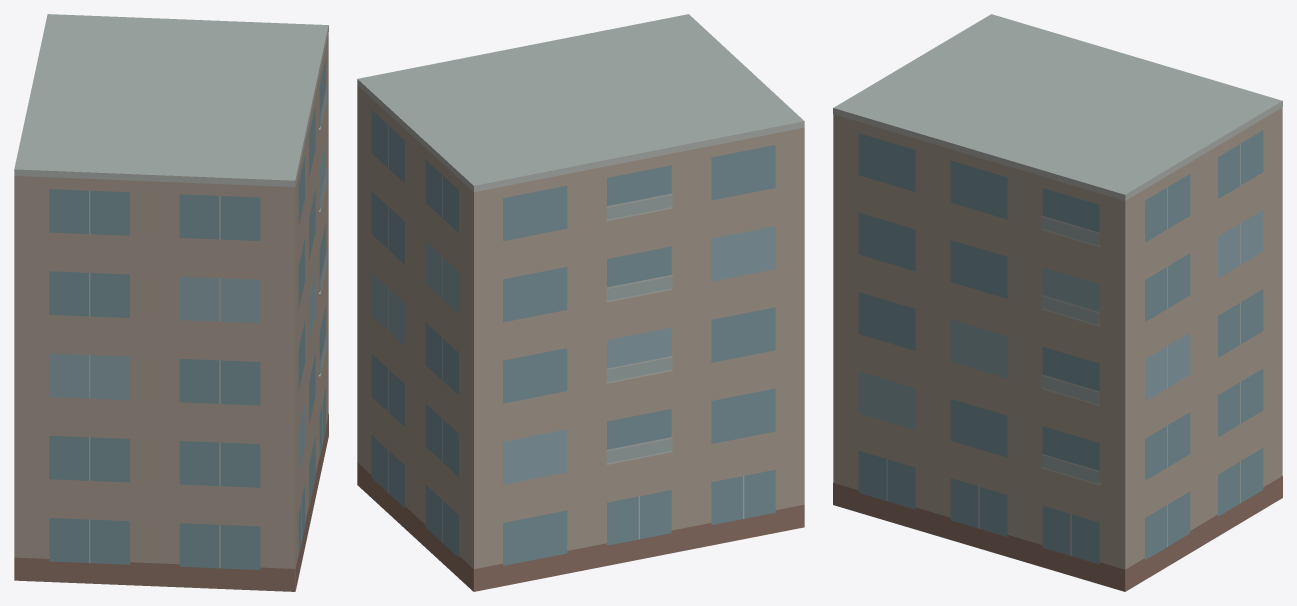
File: survey-upis-32860697.glb
3 renders of one model, left to right at view 1: azimuth 30°, elevation 25°; view 2: azimuth 150°, elevation 25°; view 3: azimuth 270°, elevation 25°, orthographic. The views are drawn at different scales.
Visible parts, largest first — view 1: survey-upis-32860697.tmp; view 2: survey-upis-32860697.tmp; view 3: survey-upis-32860697.tmp.
Boxes of the visible parts, x1=… form: survey-upis-32860697.tmp: x1=14, y1=14, x2=328, y2=591; survey-upis-32860697.tmp: x1=357, y1=14, x2=804, y2=591; survey-upis-32860697.tmp: x1=833, y1=14, x2=1282, y2=591.
Bounding box in the file's own units: 15.15 × 15.5 × 15.92.
